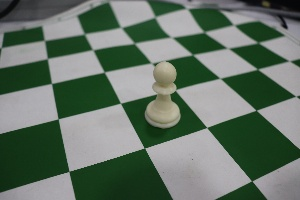white_pawn: (132, 45, 188, 137)
